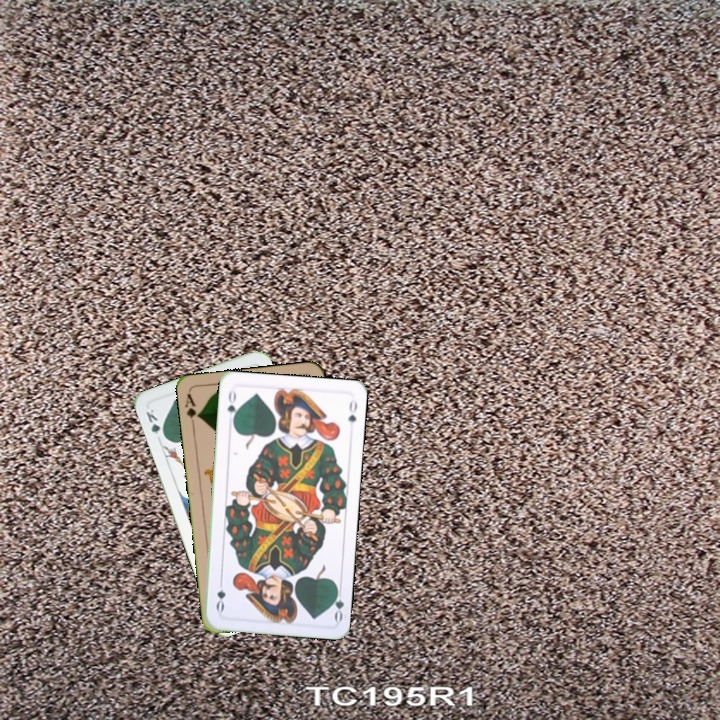GA: (181, 390, 203, 430)
GK: (142, 405, 168, 442)
GO: (327, 583, 346, 624), (223, 386, 240, 427)
